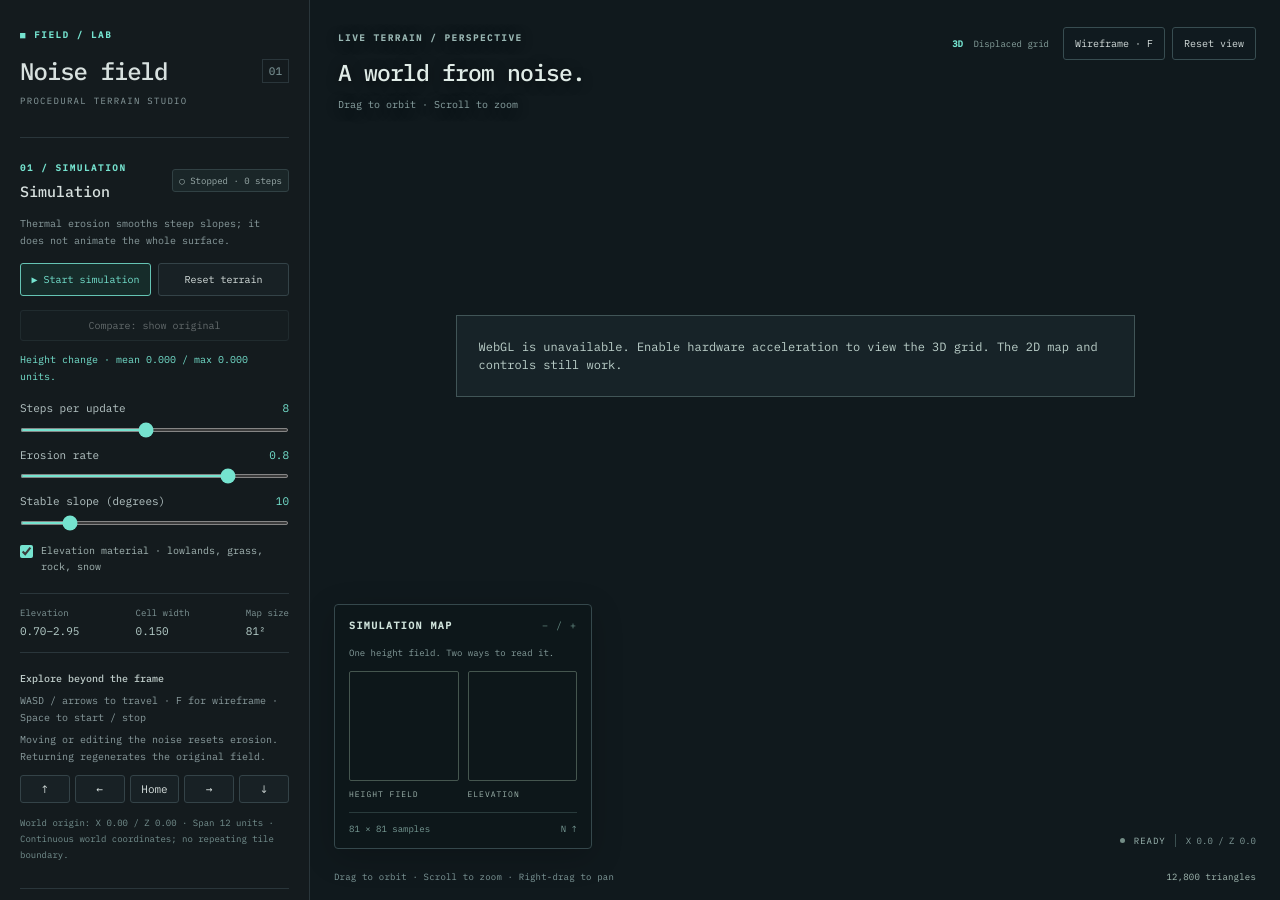
start advances the simulation, stop freezes it, and reset clears it
This screenshot has width=1280, height=900.
What coordinates should you click on to do the following:
click the button "▶ Start simulation"
I would click on:
 (86, 280)
Its box is x1=20 y1=263 x2=151 y2=296.
Wait 300 ms
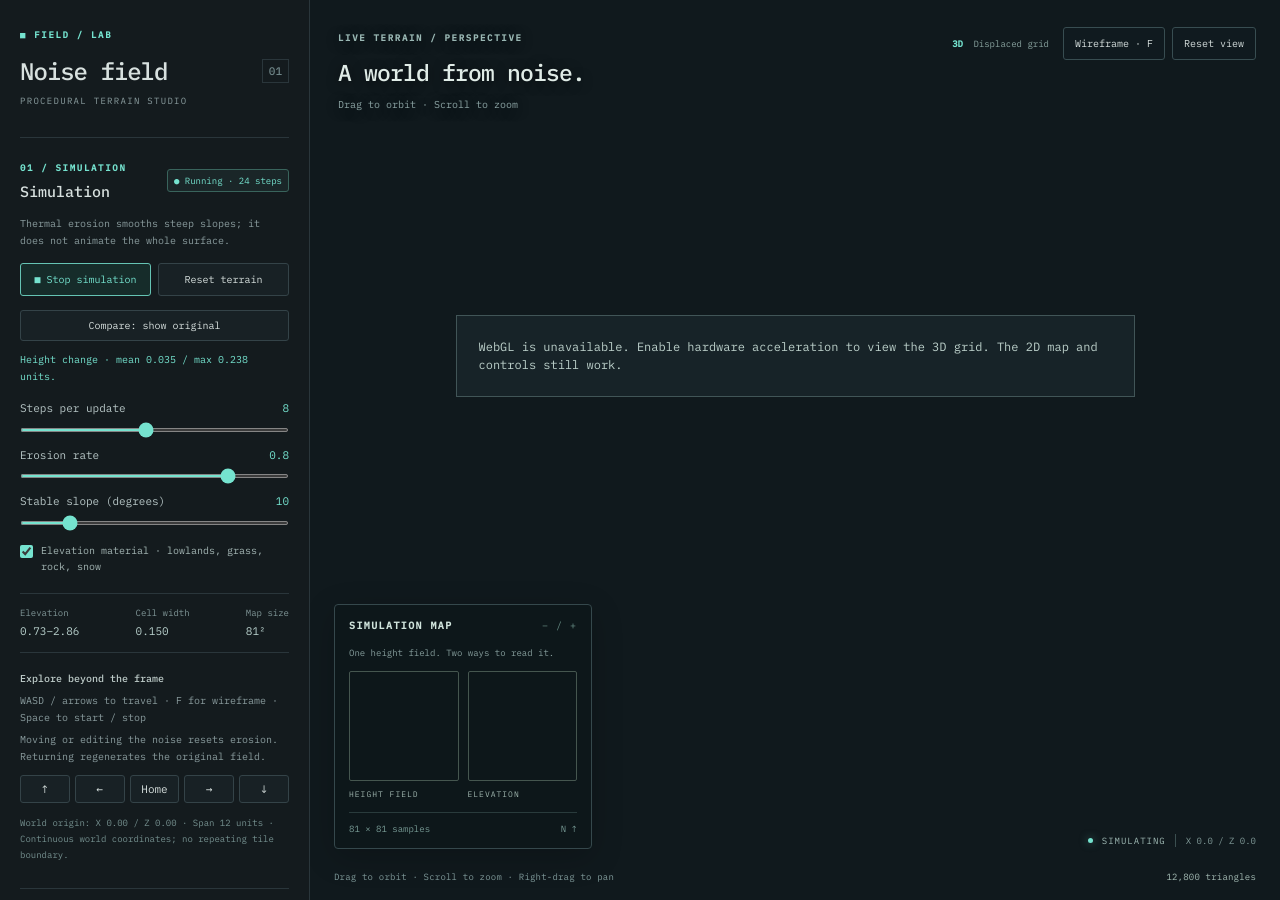
Check: the message named "Simulation status" shows "24 steps", box x1=167 y1=168 x2=289 y2=192
What coordinates should you click on to do the following:
click the button "■ Stop simulation"
I would click on:
 (86, 280)
Its box is x1=20 y1=263 x2=151 y2=296.
Wait 500 ms
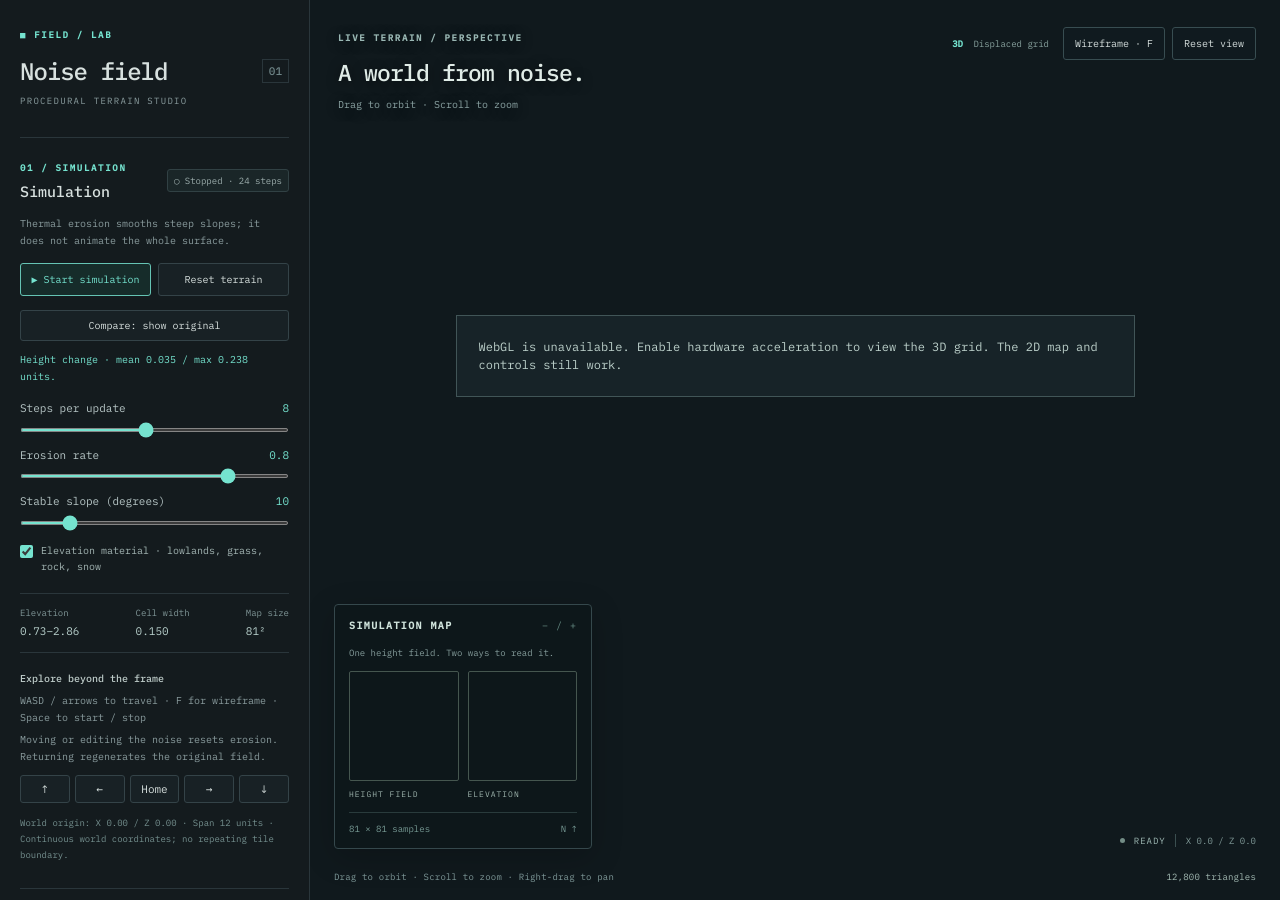
Check: the message named "Simulation status" shows "Stopped · 24 steps", box x1=167 y1=168 x2=289 y2=192
What coordinates should you click on to do the following:
click the button "Reset terrain"
I would click on:
 (224, 280)
Its box is x1=158 y1=263 x2=289 y2=296.
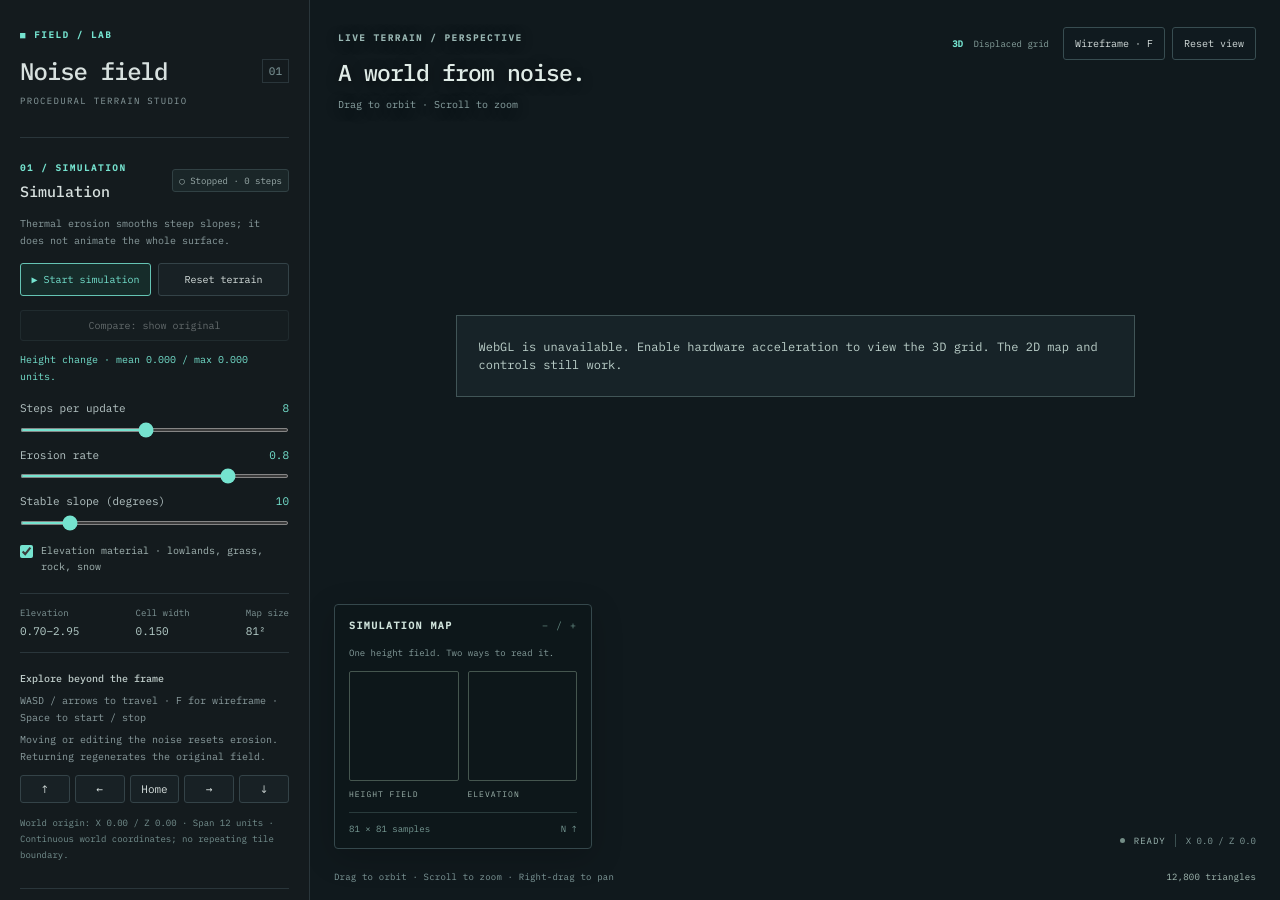
Check: the message named "Simulation status" shows "0 steps", box x1=172 y1=168 x2=289 y2=192
